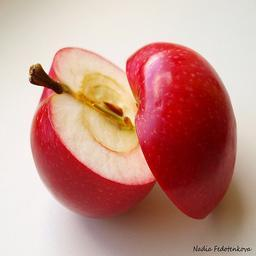apple: (29, 47, 156, 218), (127, 43, 236, 221)
